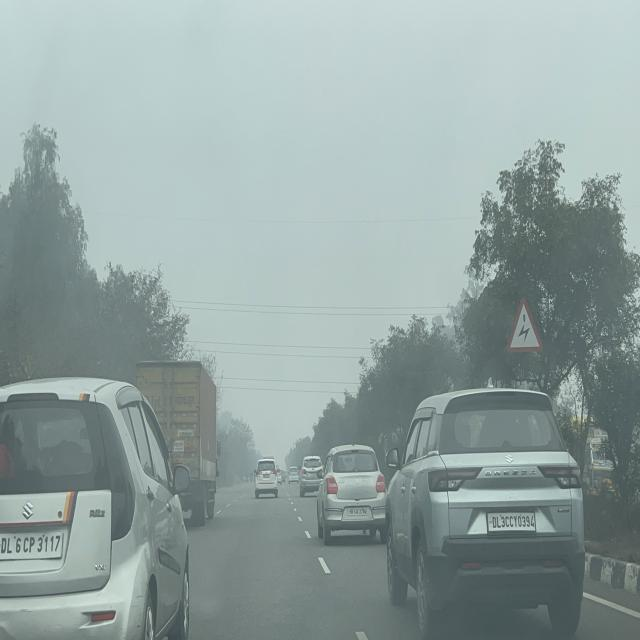WARNING: (507, 296, 543, 355)
